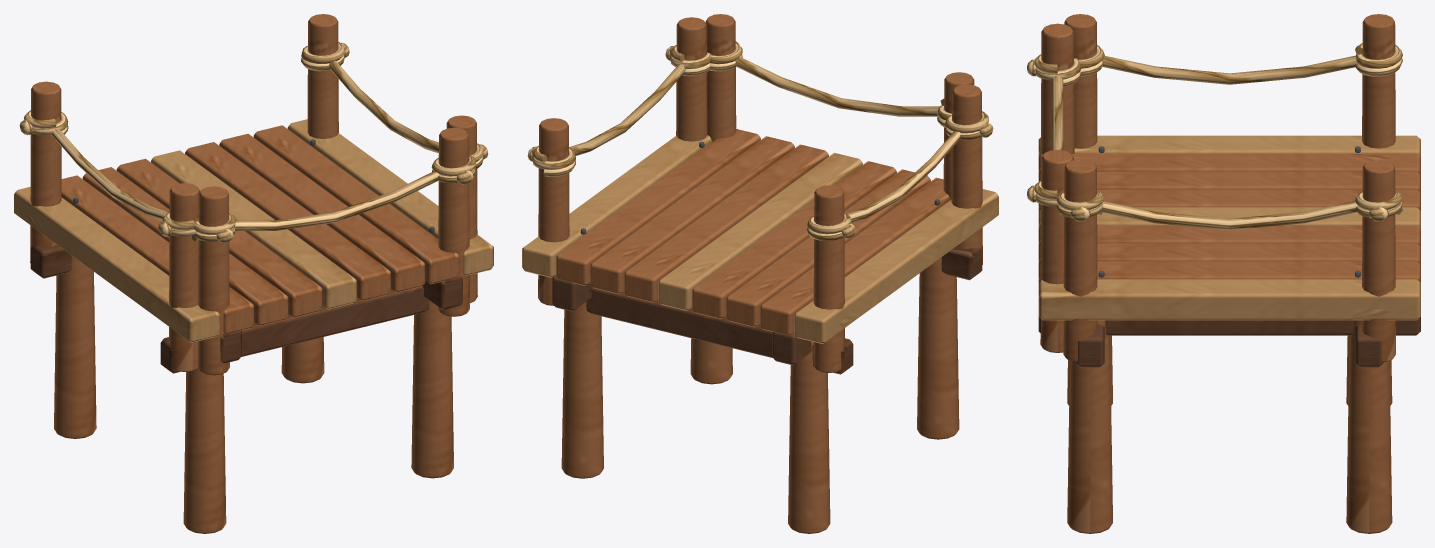
Rendered from SM_Dock_End.glb.
The picture shows the model from 3 angles, left to right: view 1: azimuth 30°, elevation 25°; view 2: azimuth 150°, elevation 25°; view 3: azimuth 270°, elevation 25°; orthographic projection. The views are drawn at different scales.
Visible parts, largest first — view 1: SM_Dock_End; view 2: SM_Dock_End; view 3: SM_Dock_End.
Boxes of the visible parts, box(x1,y1,x2,y2) form: SM_Dock_End: box(14, 14, 493, 533); SM_Dock_End: box(522, 14, 998, 533); SM_Dock_End: box(1027, 14, 1420, 533).
Size of the model in its own units: 2.12 by 2.15 by 2.06.
1 material, 1 textured.
